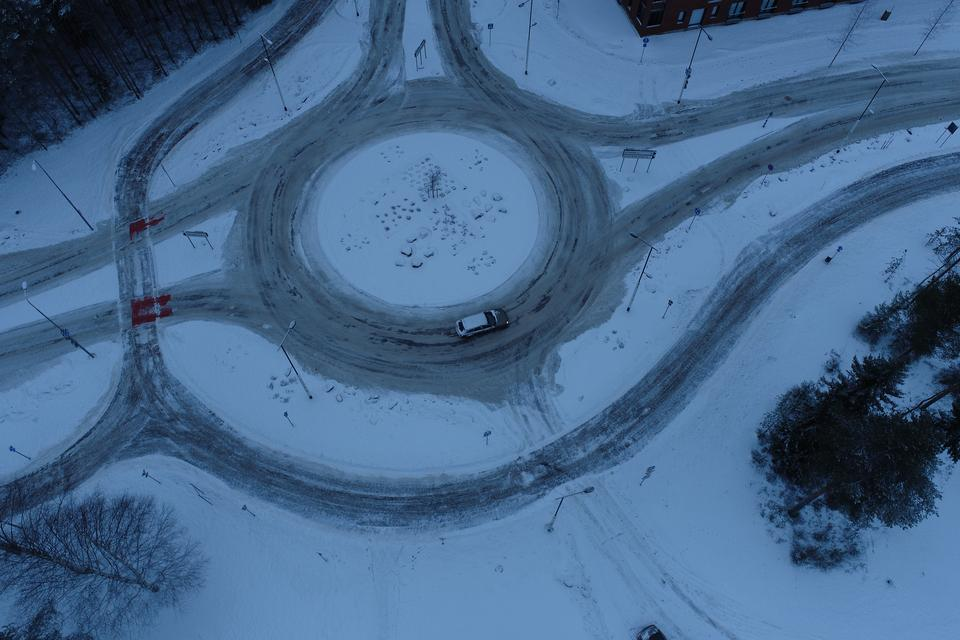intersection: (98, 166, 184, 360)
roundabout: (204, 31, 743, 554)
